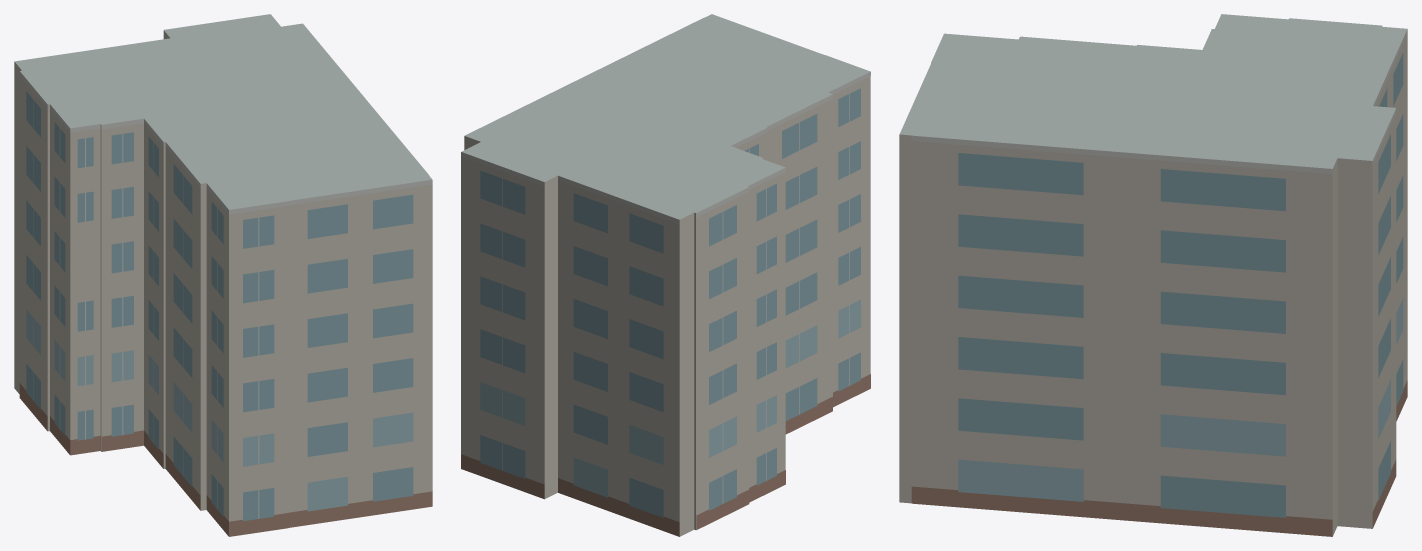
The model's file is survey-upis-32667889.glb.
3 views of the same model, side by side, from view 1: azimuth 30°, elevation 25°; view 2: azimuth 150°, elevation 25°; view 3: azimuth 270°, elevation 25° (orthographic). The views are drawn at different scales.
Parts seen in each view (by area): view 1: survey-upis-32667889.tmp; view 2: survey-upis-32667889.tmp; view 3: survey-upis-32667889.tmp.
Boxes of the visible parts, x1,y1,x2,y2 form: survey-upis-32667889.tmp: (14, 14, 432, 536); survey-upis-32667889.tmp: (461, 14, 870, 536); survey-upis-32667889.tmp: (899, 14, 1407, 536).
Size of the model in its own units: 15.49 by 17.15 by 21.47.
